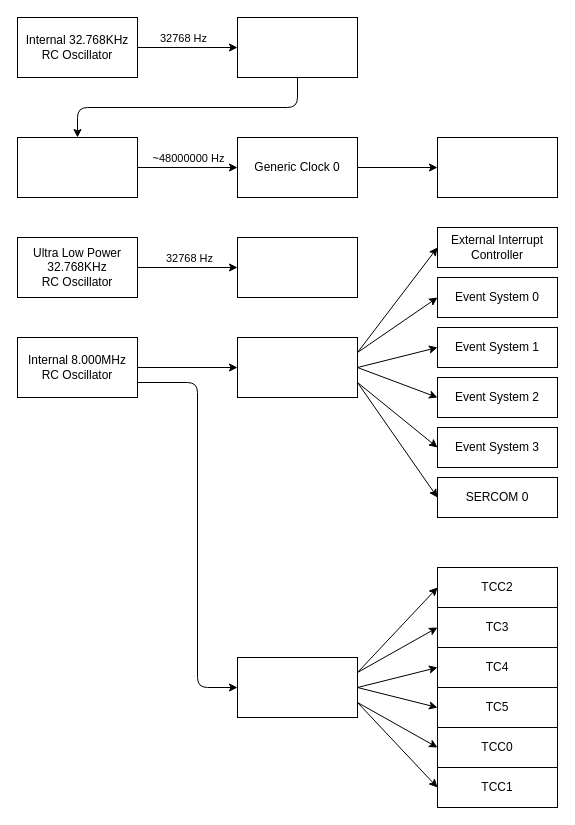
This 575x825 diagram has some shape labels left out. The box of each missing label's shape, as (x1, y1, x2, y2) in pixels:
Digital Frequency Locked Loop: (16, 136, 138, 198)
Generic Clock 1: (236, 16, 358, 78)
Generic Clock 2: (236, 236, 358, 298)
Generic Clock 3: (236, 336, 358, 398)
Generic Clock 4 (divide 8): (236, 656, 358, 718)
Main Clock: (436, 136, 558, 198)
